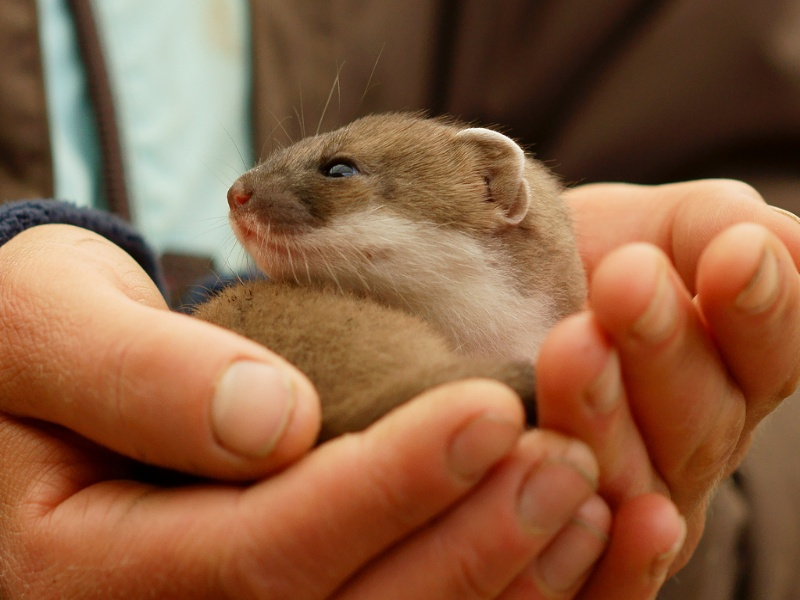minkish: (187, 94, 589, 447)
